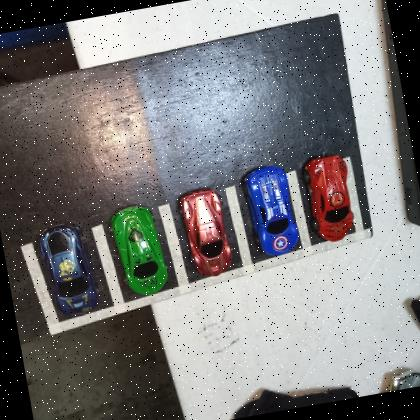Car: (35, 219, 102, 322), (104, 202, 172, 302), (239, 162, 302, 261), (175, 184, 238, 282), (299, 150, 361, 246)
